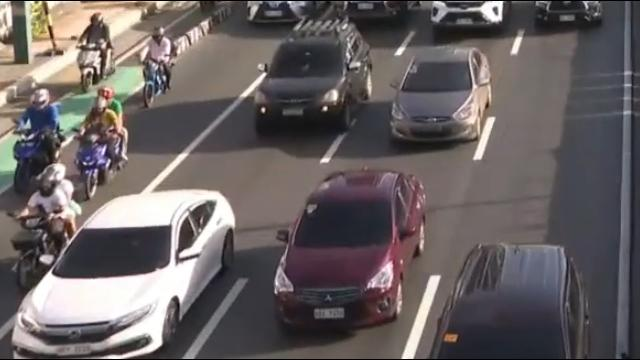car: (11, 190, 241, 360), (276, 168, 426, 328), (435, 244, 592, 360), (256, 18, 373, 134), (390, 45, 492, 148), (431, 1, 512, 33), (334, 1, 412, 26), (534, 1, 605, 28), (245, 1, 314, 26)
motorcycle: (10, 163, 80, 294), (12, 89, 68, 197), (74, 85, 125, 197), (72, 10, 113, 92), (142, 27, 178, 111)
